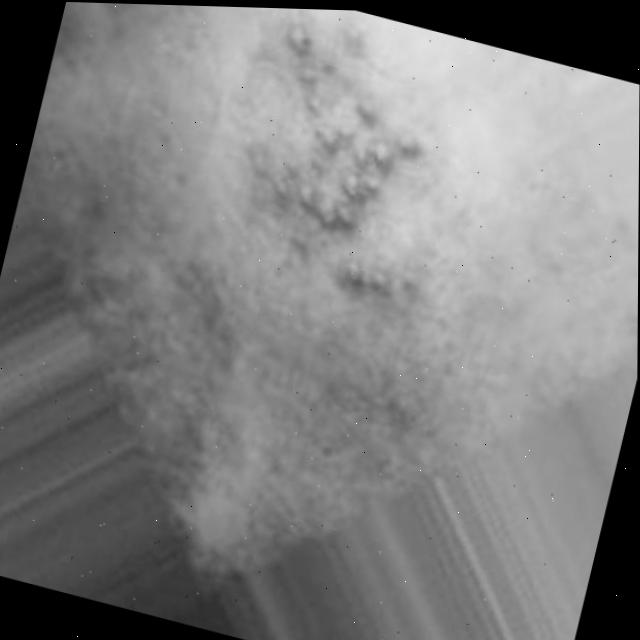Shingles: (229, 22, 476, 313)
